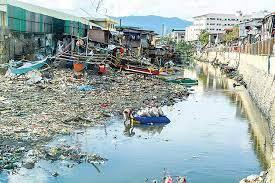Stagnant water: (27, 119, 271, 183)
